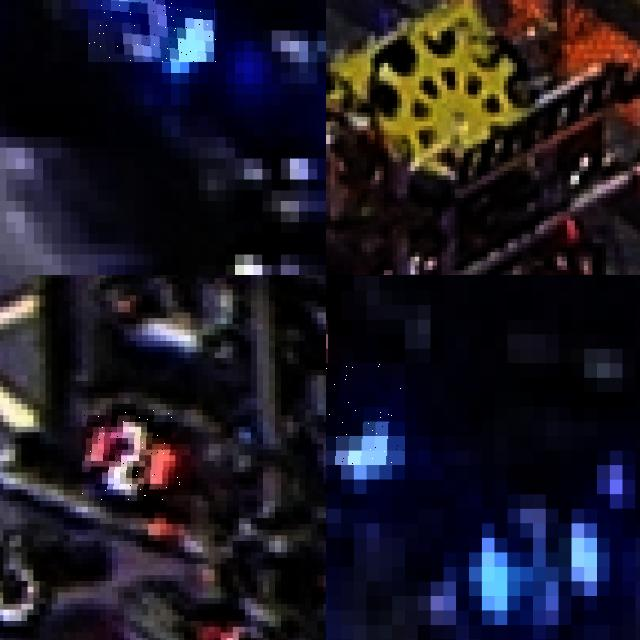B3: (405, 465, 640, 640), (326, 363, 404, 465)
B5: (88, 0, 216, 62)
R2: (82, 410, 190, 501)
